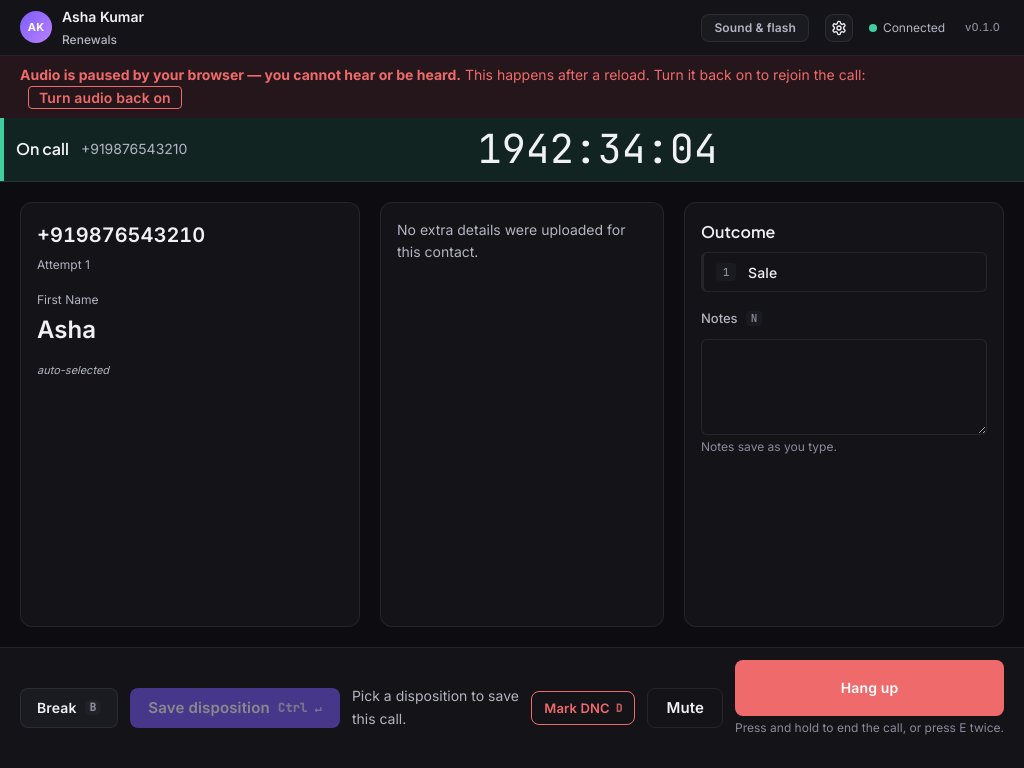
Test case: a browser that suspends the audio graph says so › offers a control that is itself the fix
This screenshot has width=1024, height=768.
Click the button with test id "mic-resume" at (105, 98), box left=28, top=86, right=182, bottom=109
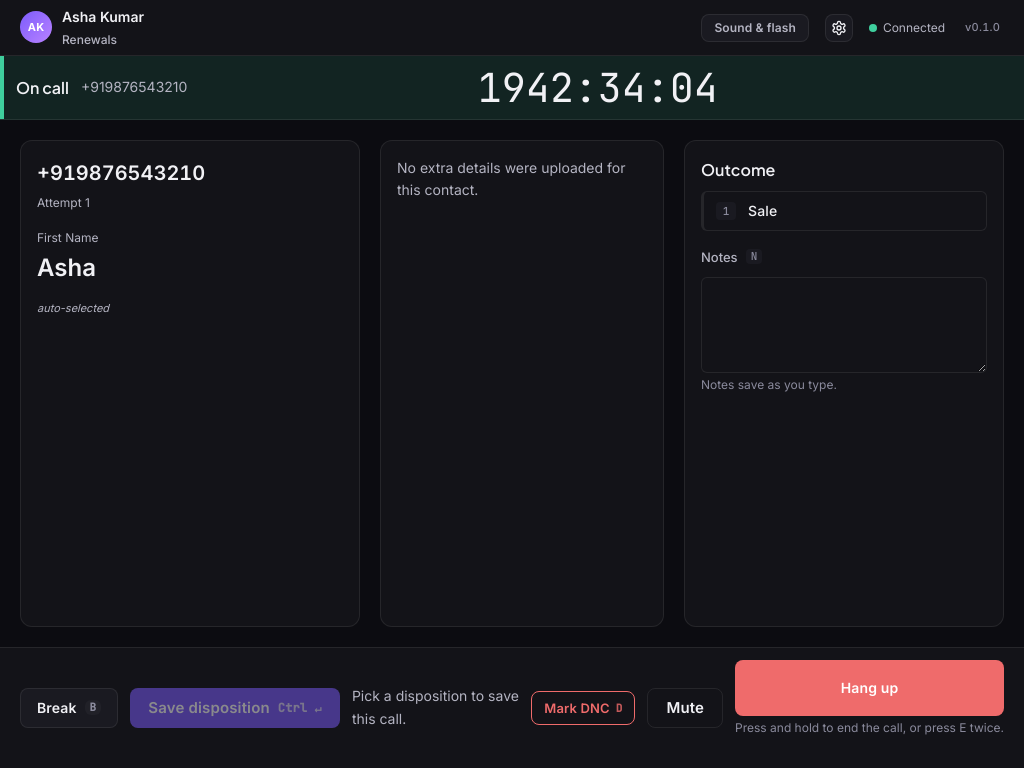
Check: the message with test id "mic-failure" is gone
